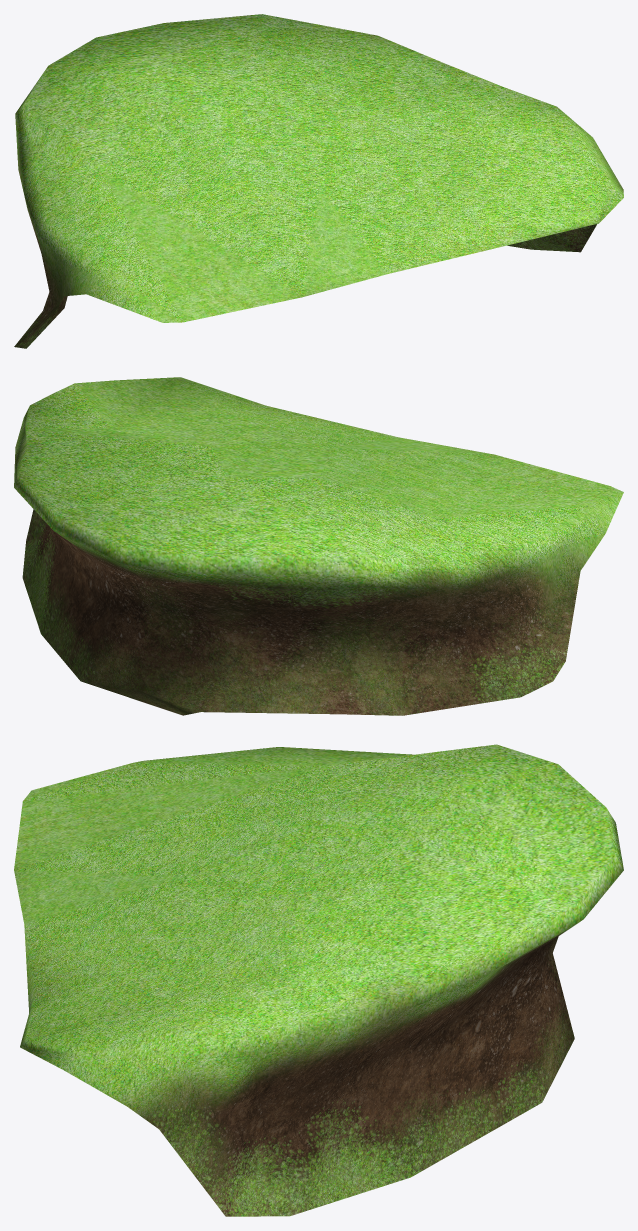
Rendered from ENV2910004.fbx.
3 renders of one model, top to bottom at view 1: azimuth 30°, elevation 25°; view 2: azimuth 150°, elevation 25°; view 3: azimuth 270°, elevation 25°, orthographic. The views are drawn at different scales.
Parts seen in each view (by area): view 1: smENV2910004; view 2: smENV2910004; view 3: smENV2910004.
Boxes of the visible parts, x1,y1,x2,y2 form: smENV2910004: [14, 14, 623, 348]; smENV2910004: [14, 377, 623, 715]; smENV2910004: [14, 744, 623, 1216].
Bounding box in the file's own units: 96.89 × 34.11 × 77.85.
Materials: 1 (1 with a texture image).
